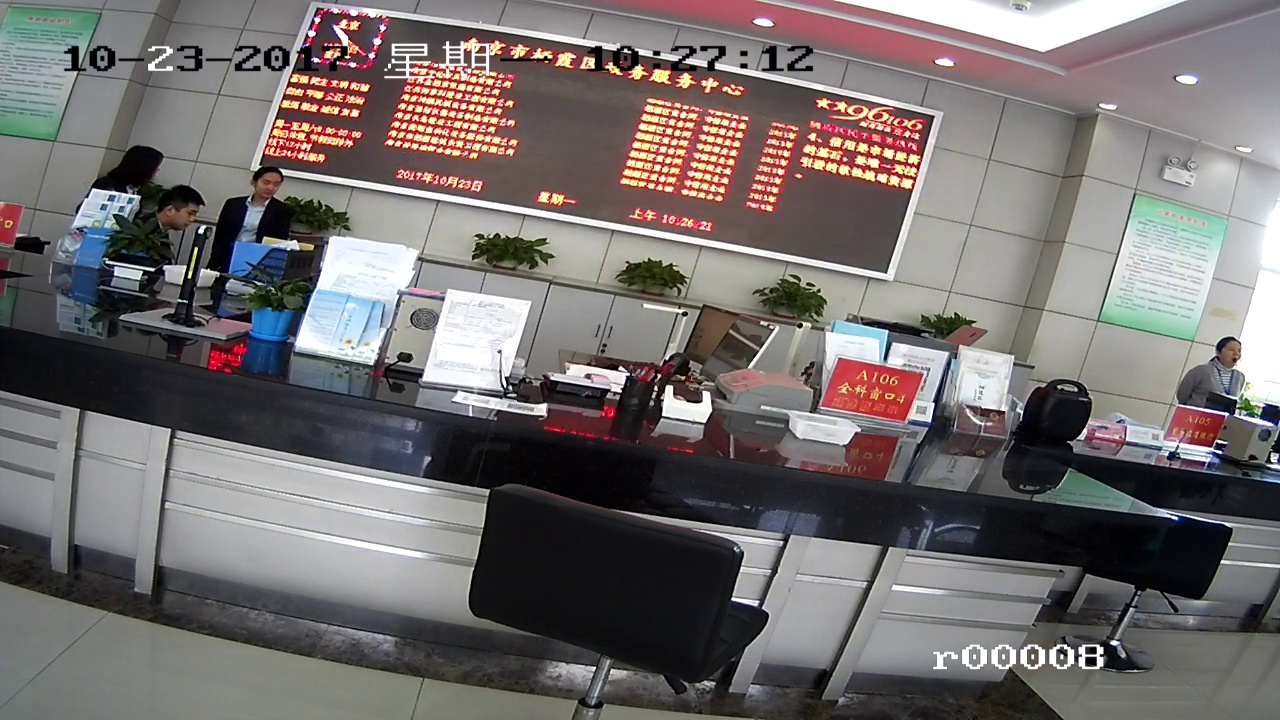billboard: (1109, 207, 1212, 325), (830, 369, 916, 429)
chair: (465, 480, 776, 718)
monitor: (327, 44, 875, 227)
person: (144, 174, 209, 240), (233, 163, 283, 236), (1199, 344, 1250, 407), (114, 138, 159, 189)
pot: (467, 223, 548, 279), (762, 270, 832, 318), (621, 258, 681, 296)
